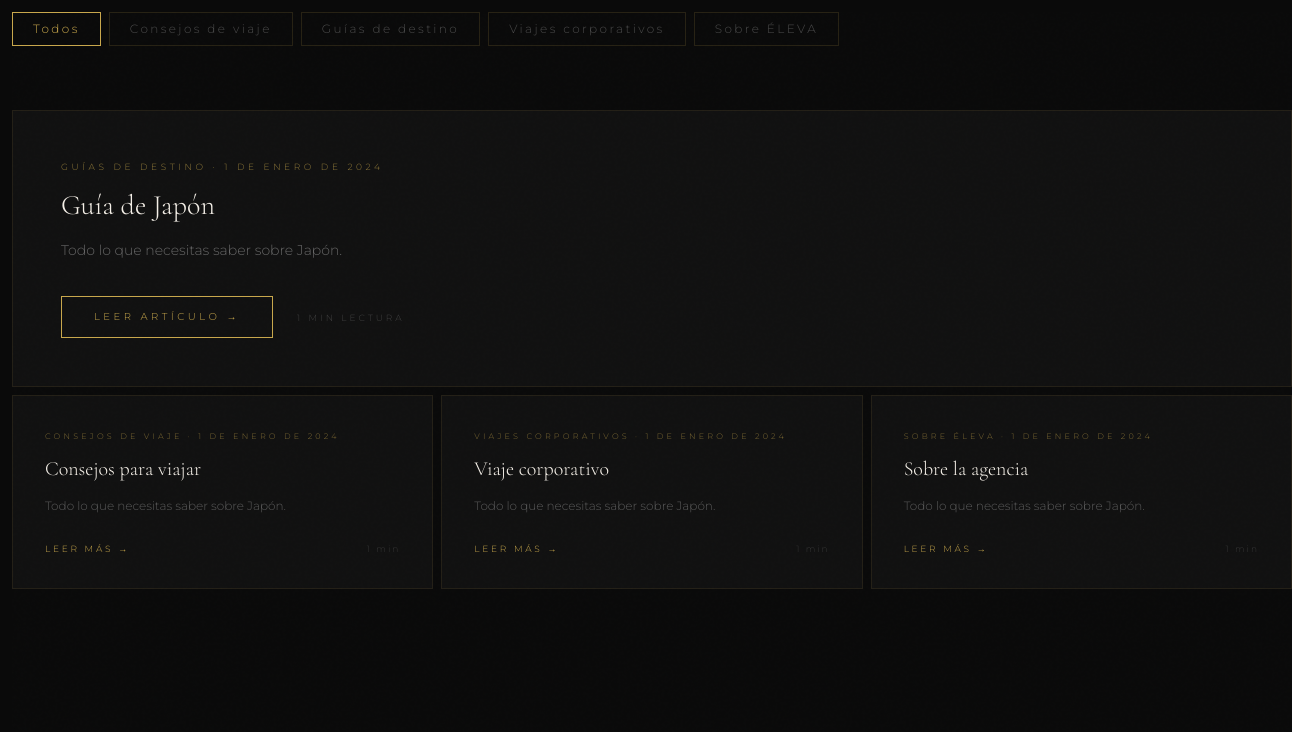
Scenario: BlogFilterGrid — filtrado por categoría › al volver a "Todos" muestra todos los posts
Click the list item "Consejos de viaje": (201, 29) [109,12,293,46]
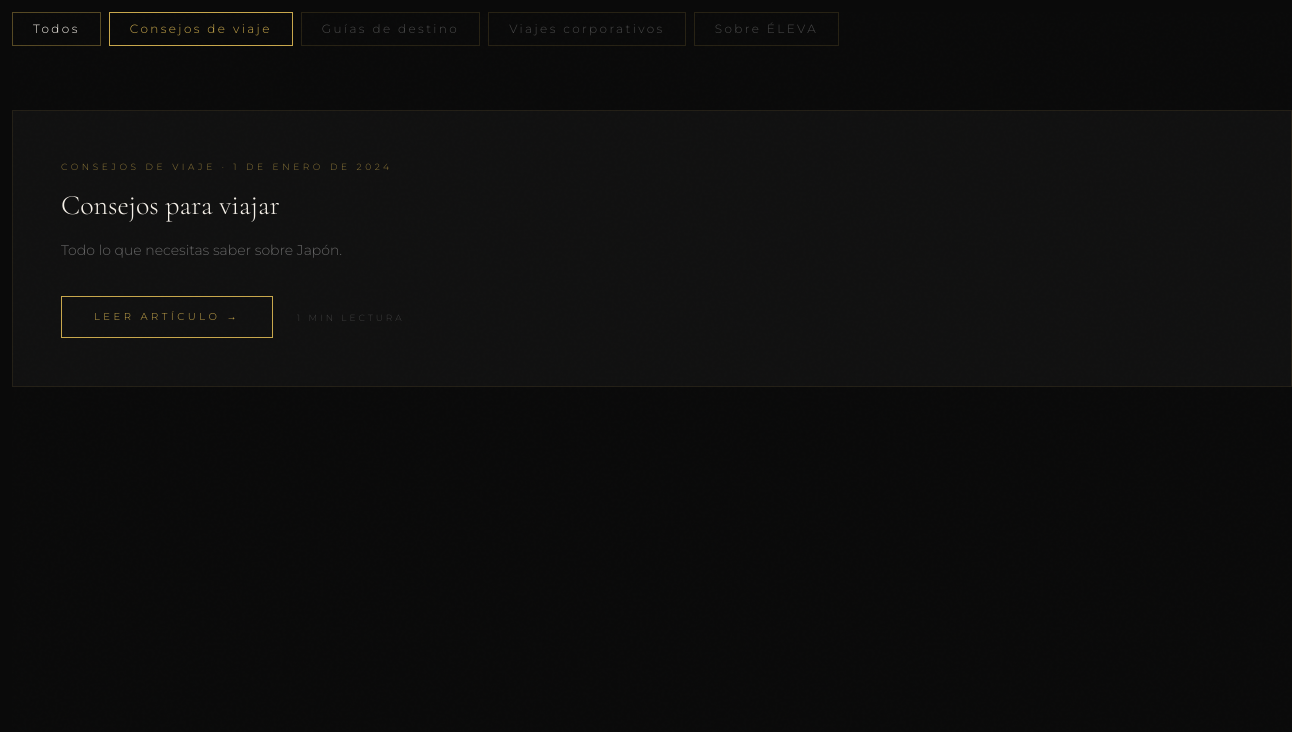
Click the list item "Todos": (56, 29) [12,12,101,46]
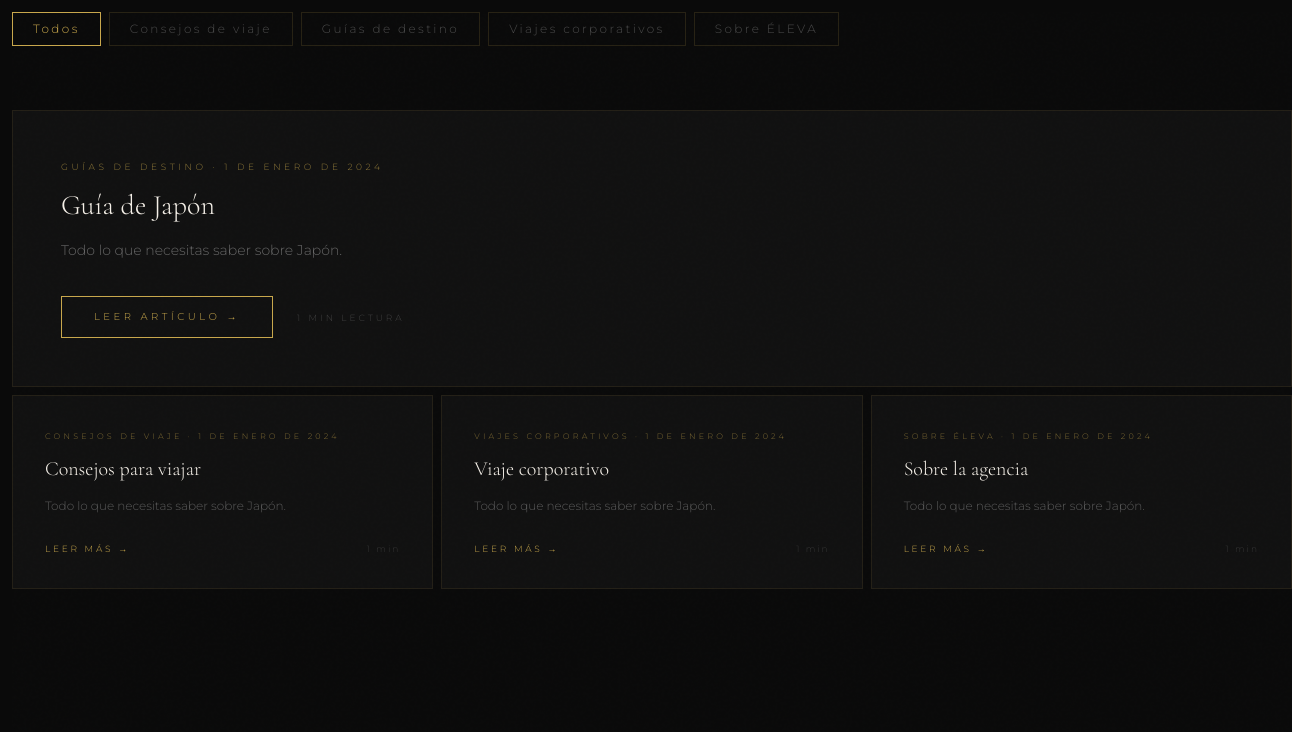
Check: the heading "Guía de Japón" is shown, box [61,188,215,222]
Check: the heading "Viaje corporativo" is shown, box [474,457,609,481]
Check: the heading "Sobre la agencia" is shown, box [904,457,1028,481]
